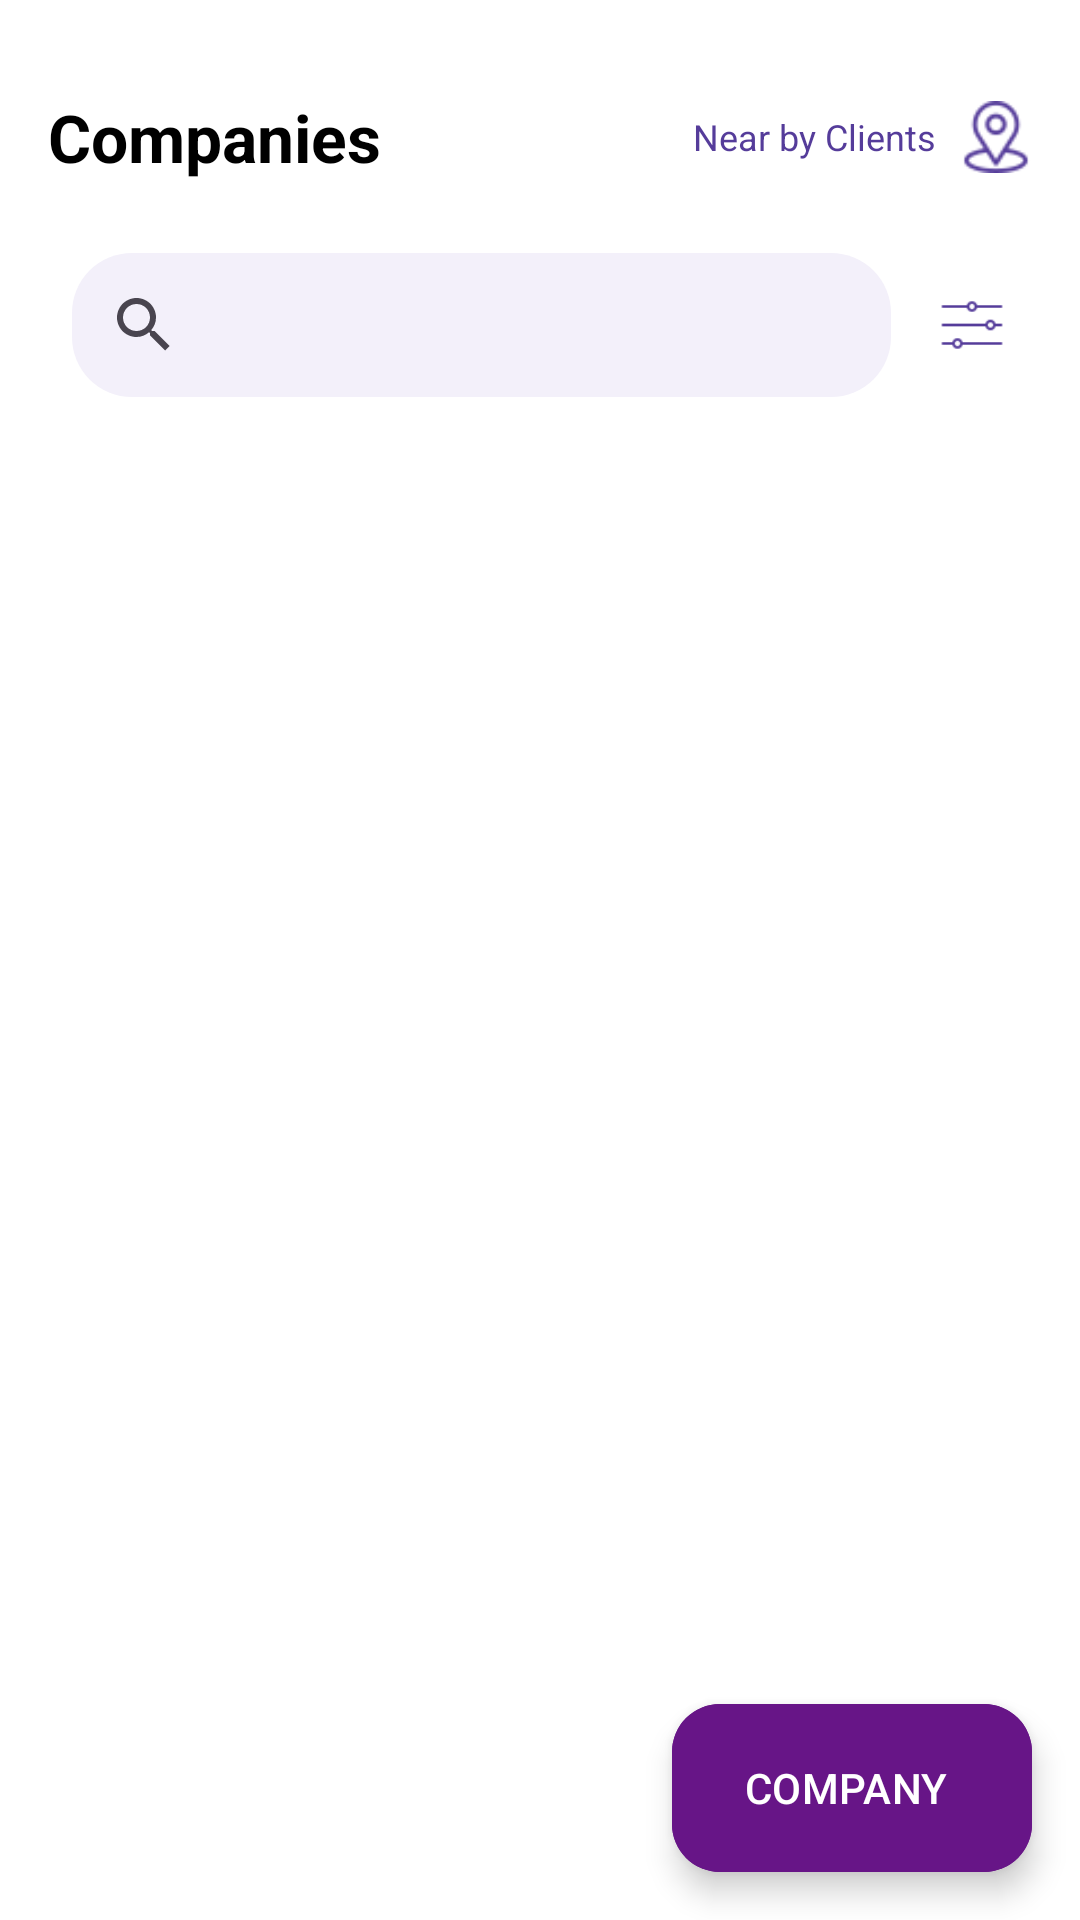

Named icons in this screenshot (1080px x 1920px) and their centers, point (x, y):
filter: point (972, 325)
location: point (996, 137)
